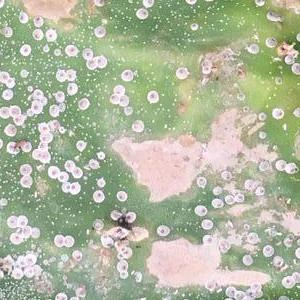Femea: (176, 67, 188, 78), (121, 70, 132, 81), (93, 190, 103, 202), (195, 205, 207, 215), (65, 68, 74, 81), (146, 92, 157, 102), (54, 69, 64, 80), (29, 102, 40, 112), (48, 167, 58, 178), (94, 56, 104, 66), (115, 190, 126, 199), (211, 198, 222, 207), (17, 217, 29, 225), (7, 217, 17, 226), (20, 44, 28, 55), (64, 160, 72, 171), (72, 167, 80, 178), (70, 182, 78, 192), (65, 47, 74, 55), (82, 49, 91, 57), (55, 91, 62, 101), (63, 183, 70, 192), (58, 173, 67, 180), (86, 60, 94, 67), (68, 84, 74, 93)
Linfa: (31, 68, 41, 78), (88, 120, 100, 128), (82, 89, 93, 97), (85, 22, 93, 33), (32, 57, 44, 64), (40, 60, 52, 67), (31, 78, 40, 87), (46, 92, 54, 102), (9, 57, 19, 65), (44, 54, 55, 61), (44, 78, 51, 87), (20, 56, 27, 65), (80, 26, 87, 35)
Macho: (224, 219, 234, 227), (76, 120, 84, 130)
